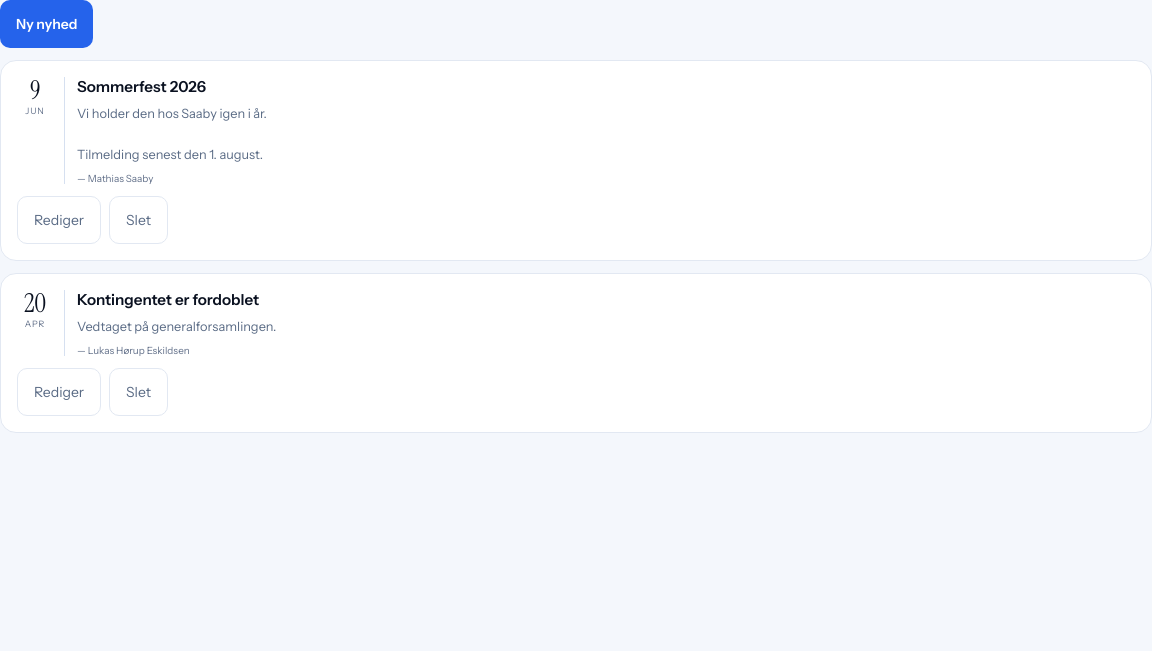
Scenario: writing a news item › says so when the save fails, and keeps the form open
The width and height of the screenshot is (1152, 651).
Click the button "Ny nyhed": (47, 24) [0,0,94,48]
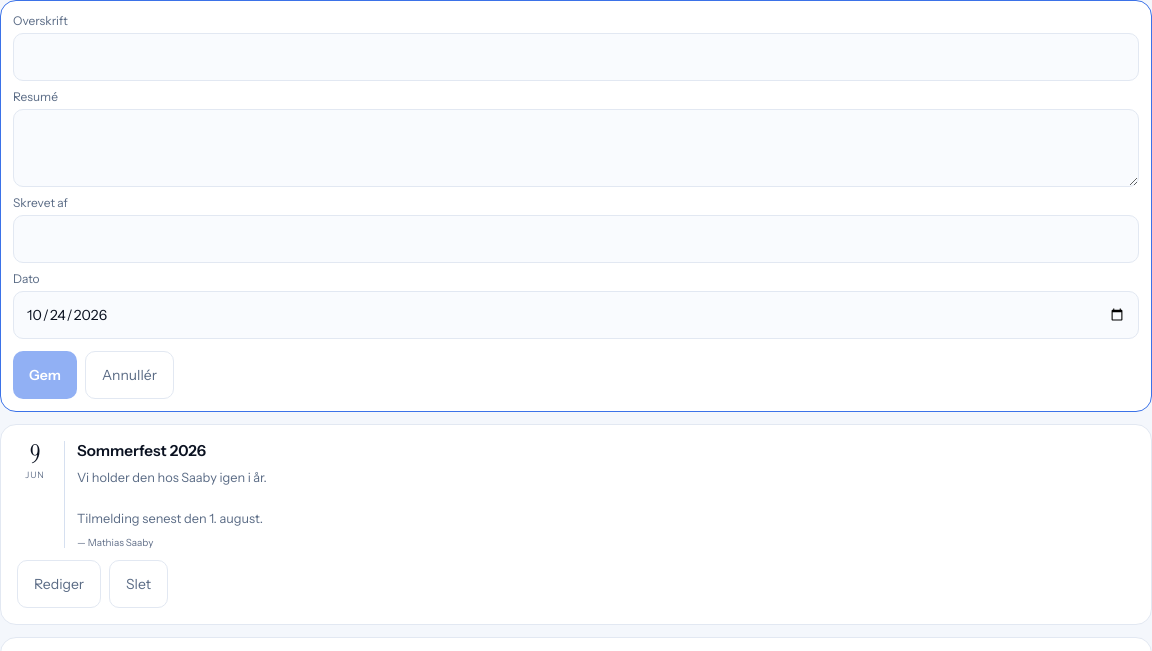
In the field labelled "Overskrift": (576, 57) [13,33,1139,81], type "Noget"
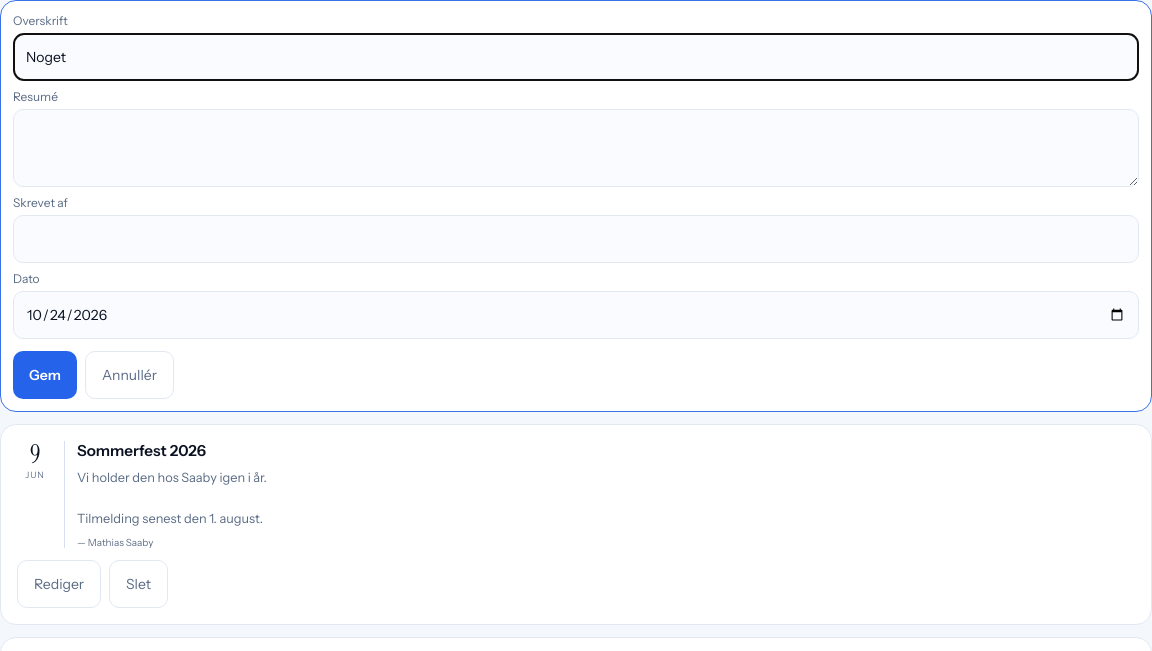
Click the button "Gem": (45, 375) [13,351,77,399]
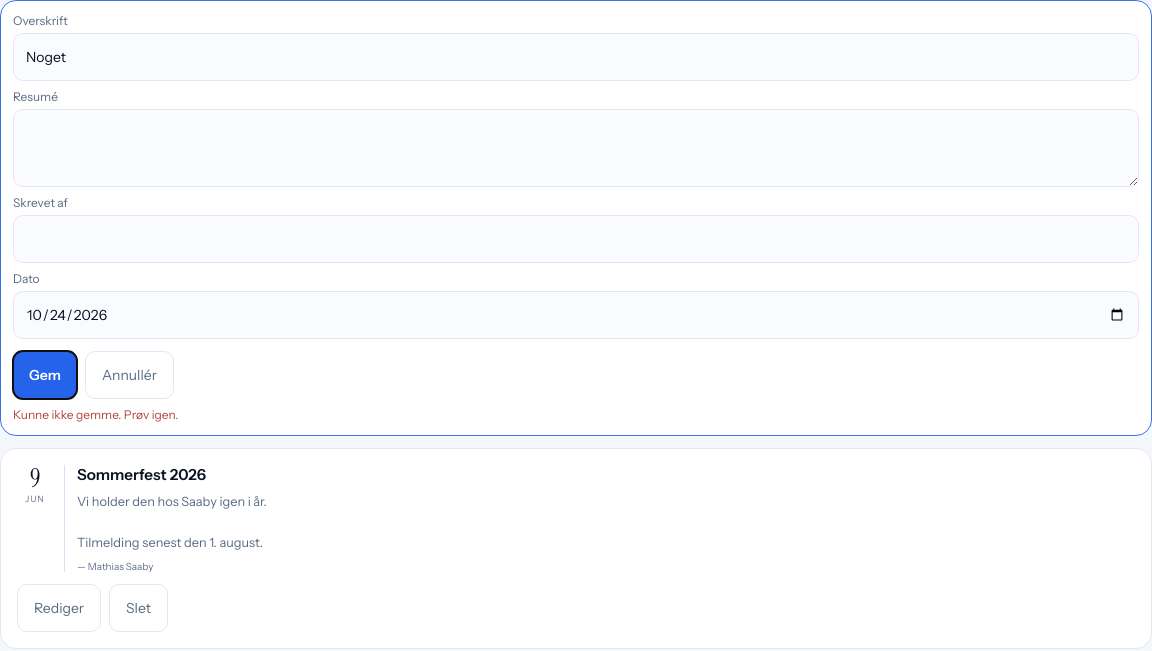
expect the message shows "Kunne ikke gemme": met, box [13,407,178,422]
